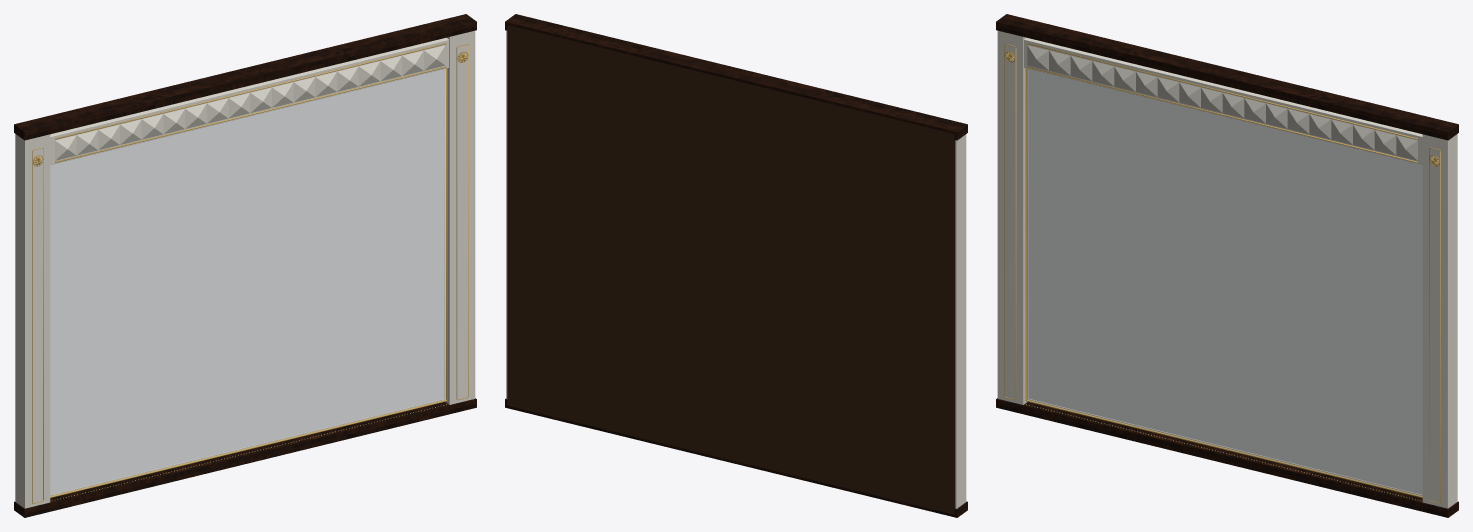
3 renders of one model, left to right at view 1: azimuth 30°, elevation 25°; view 2: azimuth 150°, elevation 25°; view 3: azimuth 330°, elevation 25°, orthographic.
Visible parts, largest first — view 1: Belgravia dressing mirror | bedroom-31 web batch; view 2: Belgravia dressing mirror | bedroom-31 web batch; view 3: Belgravia dressing mirror | bedroom-31 web batch.
Part boxes in pixels (x1,y1,x2,y2): Belgravia dressing mirror | bedroom-31 web batch: (14,14,476,517); Belgravia dressing mirror | bedroom-31 web batch: (505,14,967,517); Belgravia dressing mirror | bedroom-31 web batch: (996,14,1458,517).
Bounding box in the file's own units: 1.3 × 1.06 × 0.06.
Materials: 8 (1 with a texture image).
